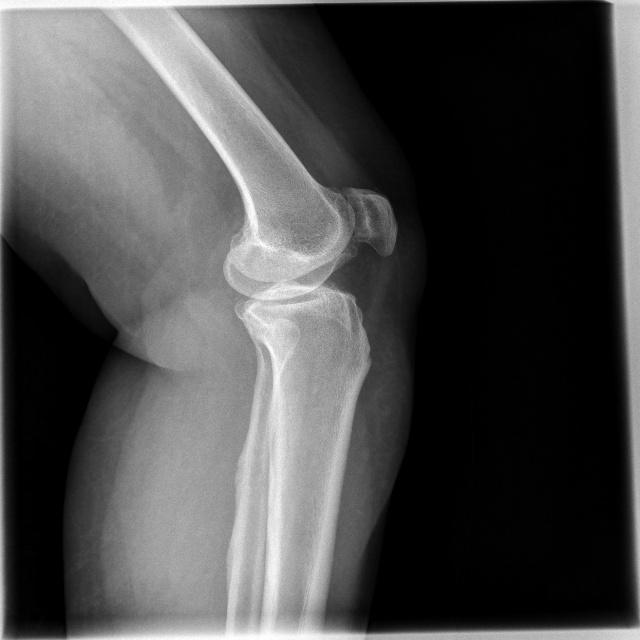Knee: (213, 181, 400, 367)
